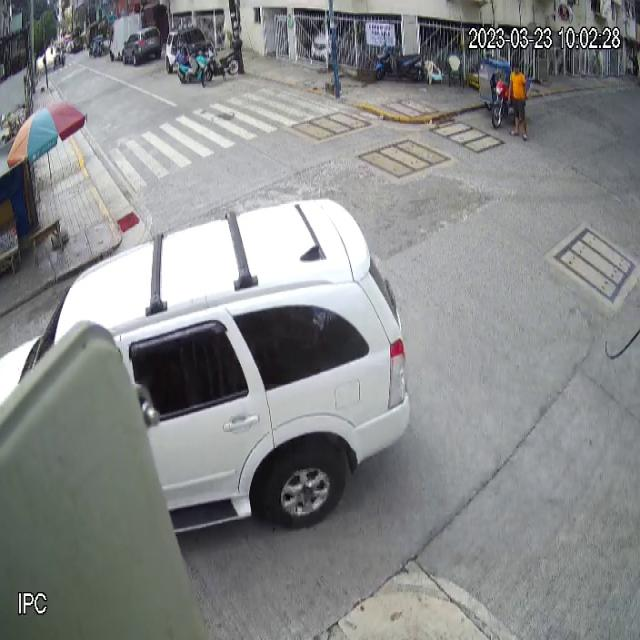Car: (0, 199, 411, 536)
Tricycle: (476, 50, 531, 130)
